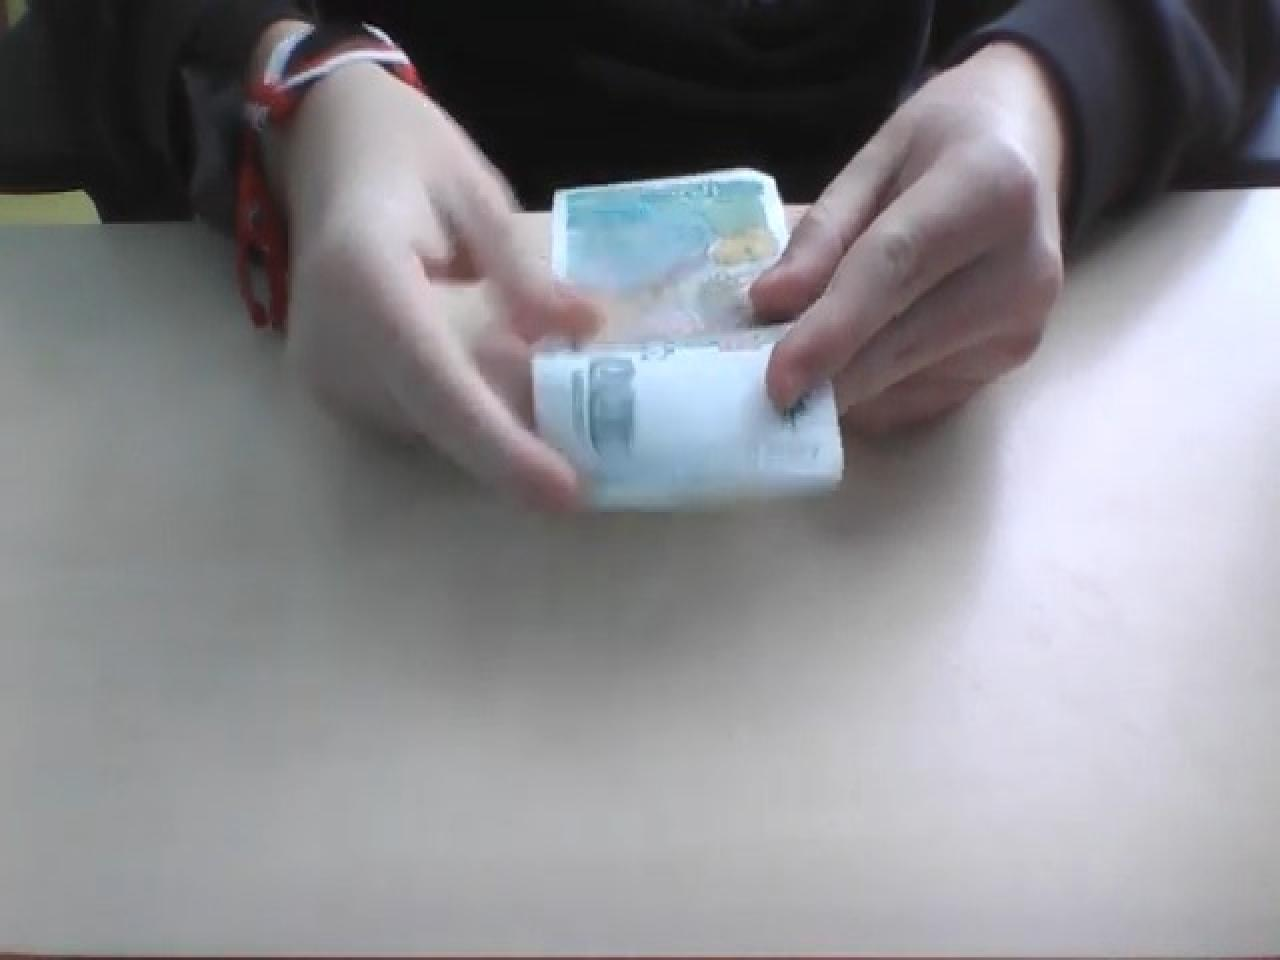100leva: (528, 162, 848, 512)
